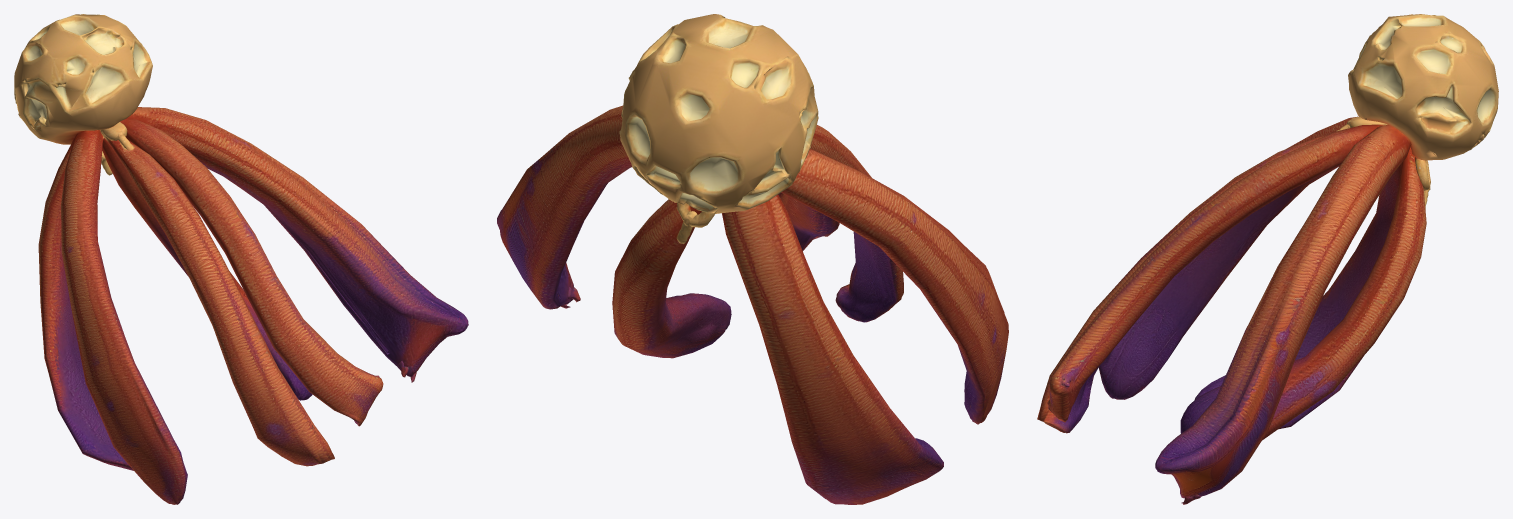
File: r33-comet.glb
3 views of the same model, side by side, from view 1: azimuth 30°, elevation 25°; view 2: azimuth 150°, elevation 25°; view 3: azimuth 270°, elevation 25° (orthographic). The views are drawn at different scales.
Visible parts, largest first — view 1: tripo_node_e15056cc-4a80-46d6-b7e3-f0774387f5d1; view 2: tripo_node_e15056cc-4a80-46d6-b7e3-f0774387f5d1; view 3: tripo_node_e15056cc-4a80-46d6-b7e3-f0774387f5d1.
Boxes of the visible parts, x1,y1,x2,y2 form: tripo_node_e15056cc-4a80-46d6-b7e3-f0774387f5d1: [14, 14, 468, 504]; tripo_node_e15056cc-4a80-46d6-b7e3-f0774387f5d1: [497, 14, 1008, 504]; tripo_node_e15056cc-4a80-46d6-b7e3-f0774387f5d1: [1037, 14, 1498, 504].
Size of the model in its own units: 0.9785 by 0.998 by 0.998.
1 material, 1 textured.
